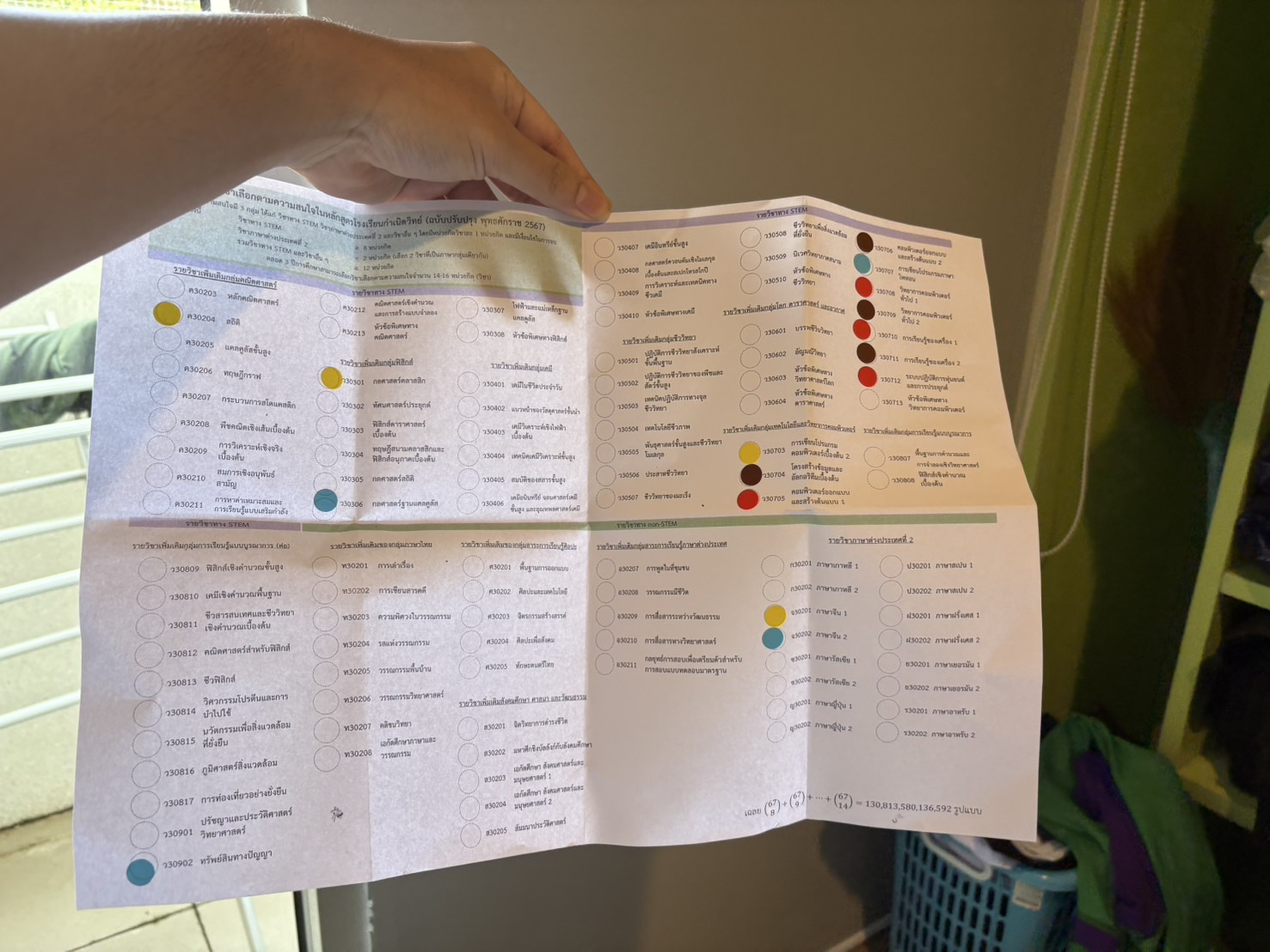paper: (77, 175, 1046, 911)
